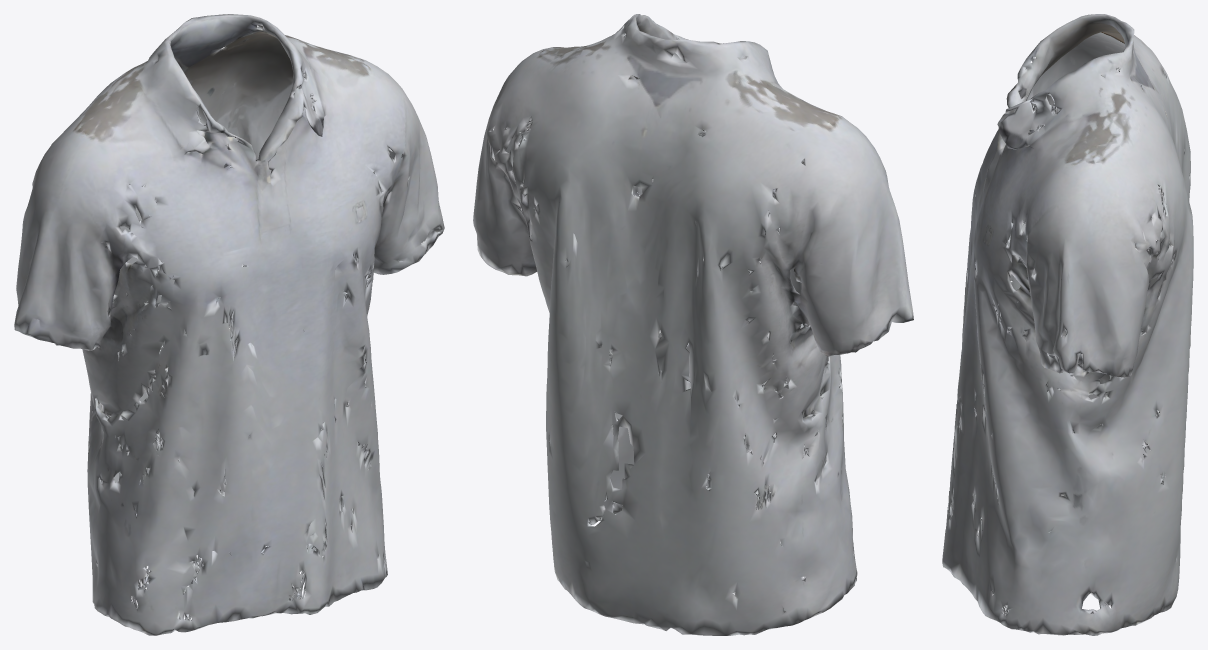
File: modelo.glb
3 renders of one model, left to right at view 1: azimuth 30°, elevation 25°; view 2: azimuth 150°, elevation 25°; view 3: azimuth 270°, elevation 25°, orthographic. The views are drawn at different scales.
Bounding box in the file's own units: 1.6 × 2 × 0.8329.
1 material, 1 textured.
